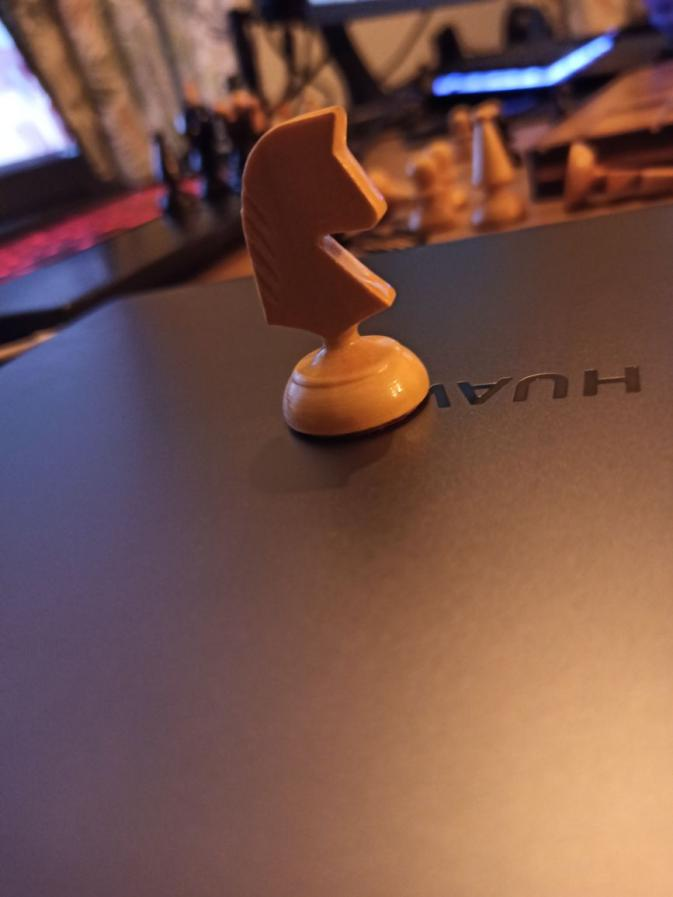wknight: (235, 105, 437, 440)
